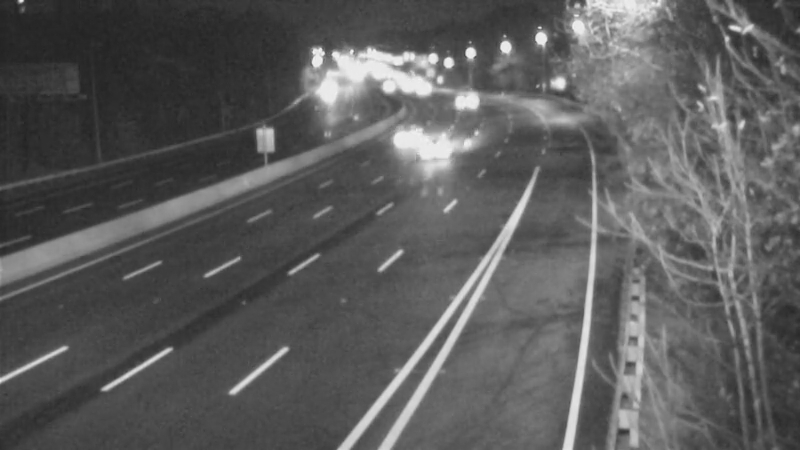vehicle: (426, 73, 476, 123), (389, 105, 439, 155), (413, 123, 463, 173)
